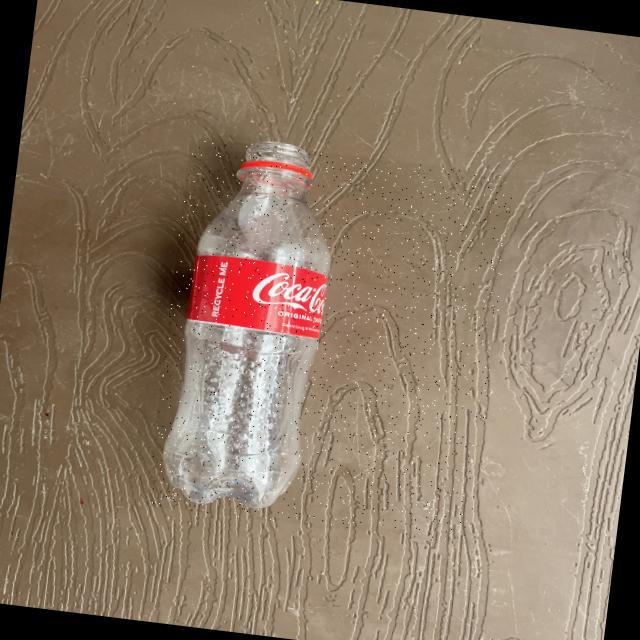REJECT: (145, 136, 514, 545)
